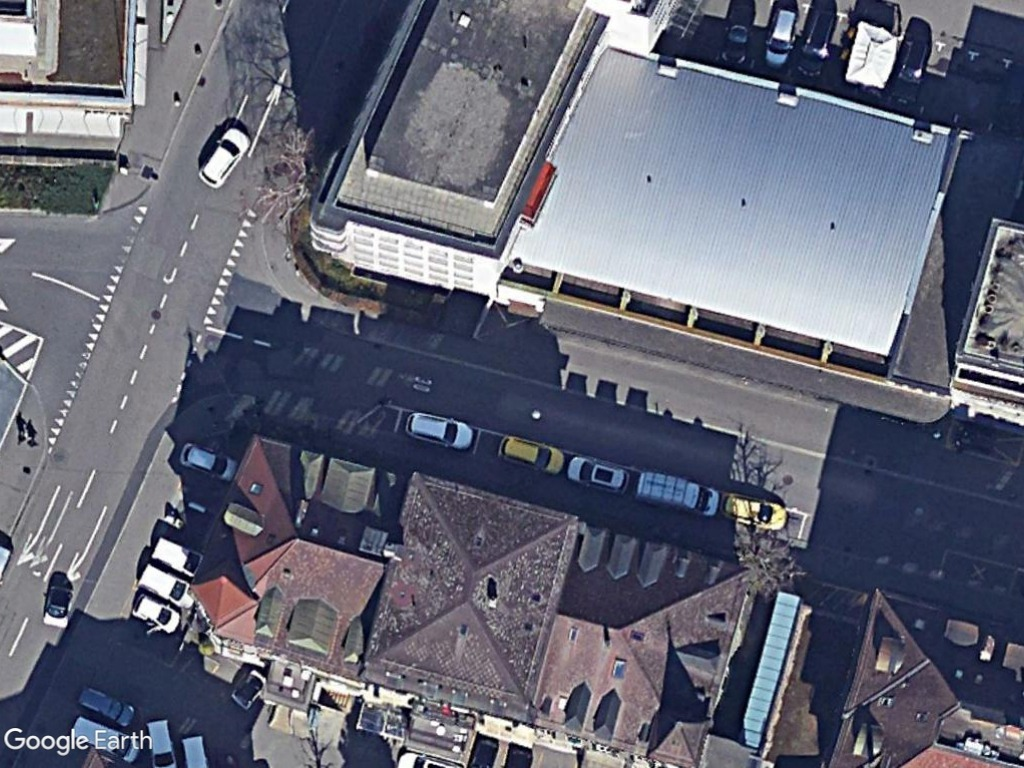car: (198, 124, 253, 190), (716, 484, 788, 530), (498, 432, 568, 477), (404, 409, 476, 451), (569, 449, 633, 495), (761, 5, 801, 71), (178, 441, 240, 481), (129, 594, 183, 634)
van: (634, 469, 722, 520)
